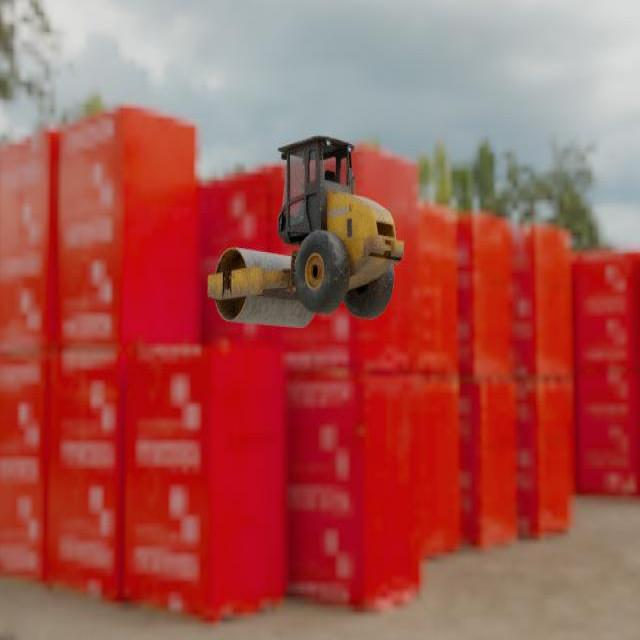Roller: (207, 135, 404, 328)
